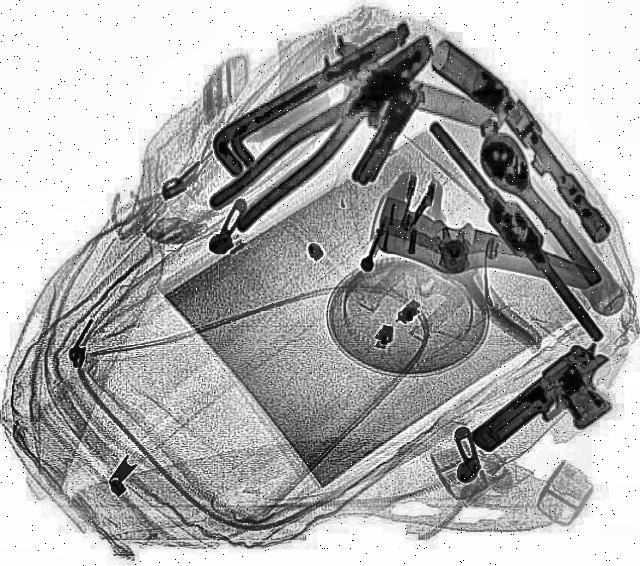Gun: (462, 340, 640, 478)
Pliers: (208, 21, 450, 234)
